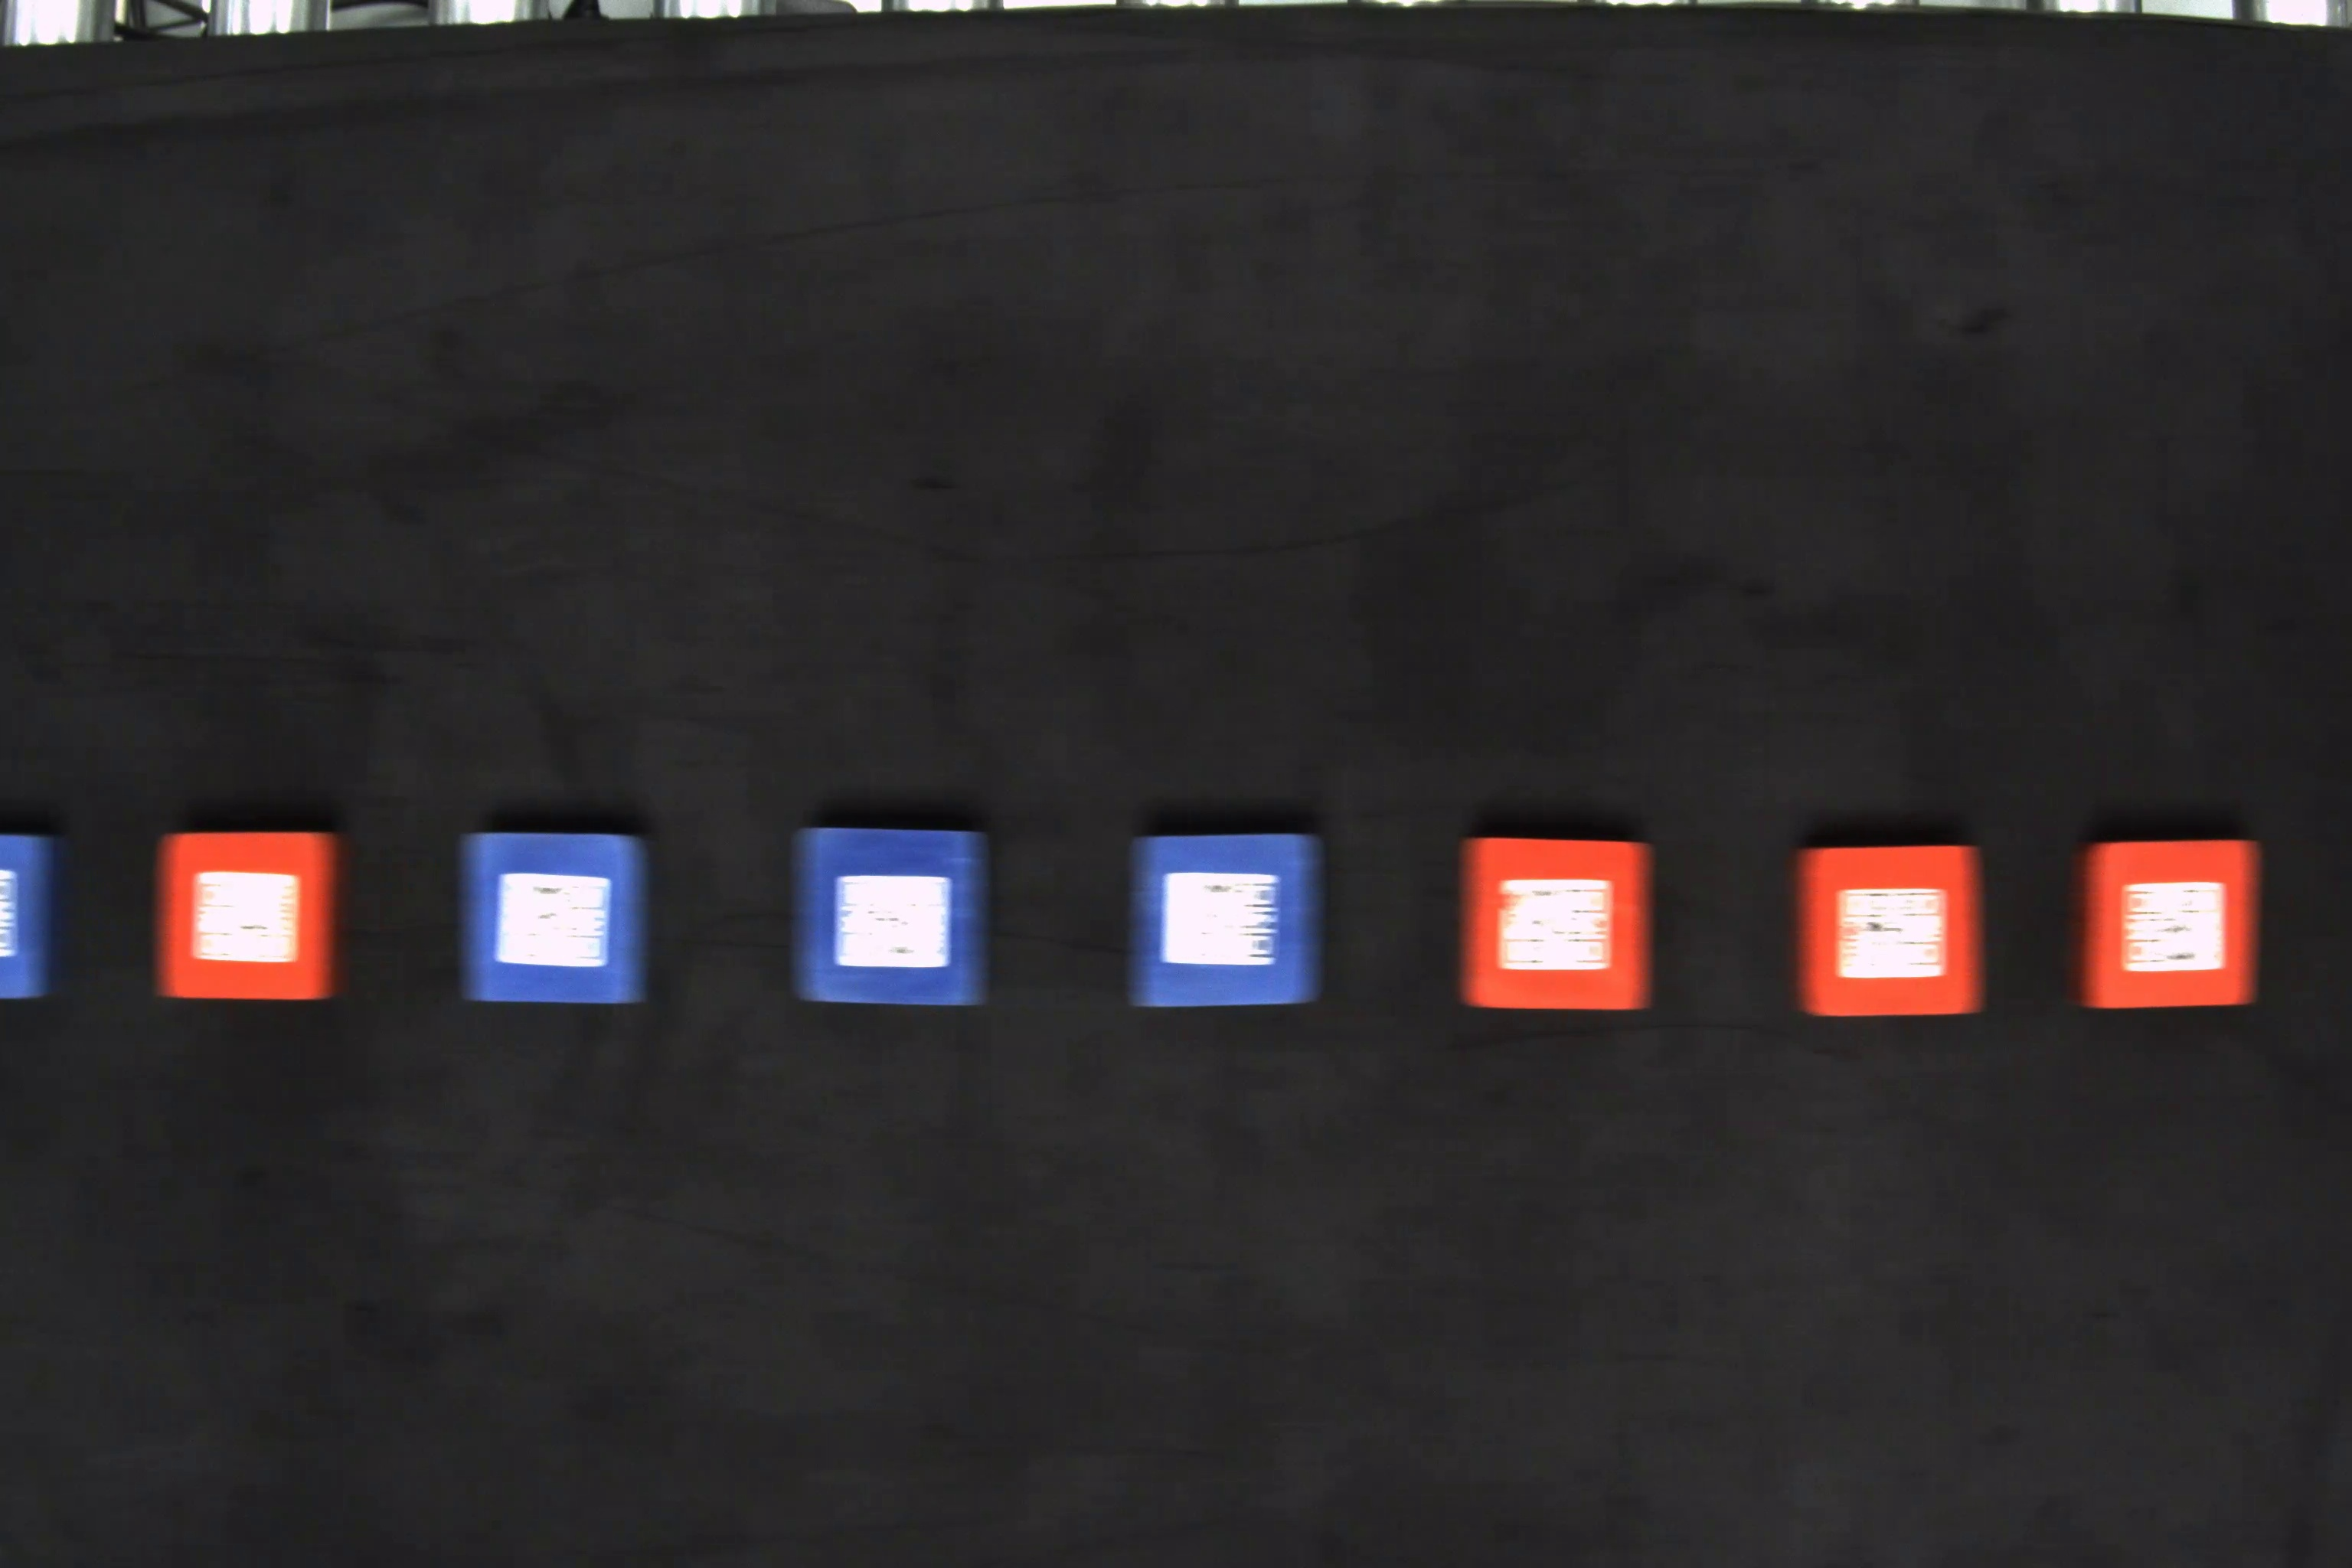wood: (787, 826, 990, 1008), (1456, 836, 1659, 1011), (1785, 845, 1988, 1018), (1129, 833, 1330, 1006), (458, 828, 654, 1004), (2070, 836, 2263, 1011), (156, 833, 346, 1003), (2, 831, 66, 1001)
